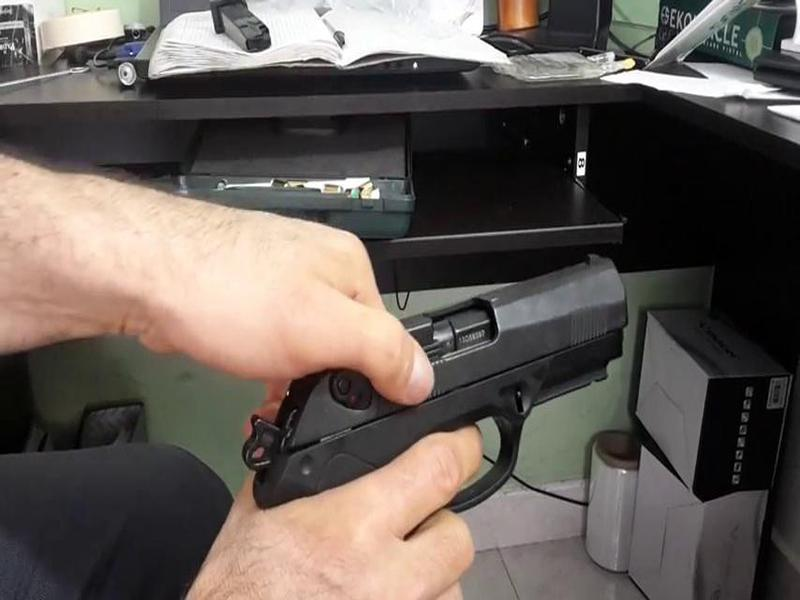Pistola: (227, 246, 674, 535)
